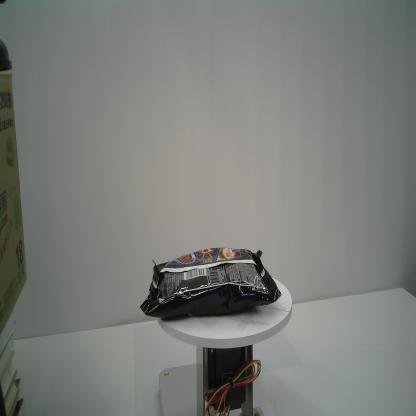Instant Noodles: (139, 246, 283, 323)
